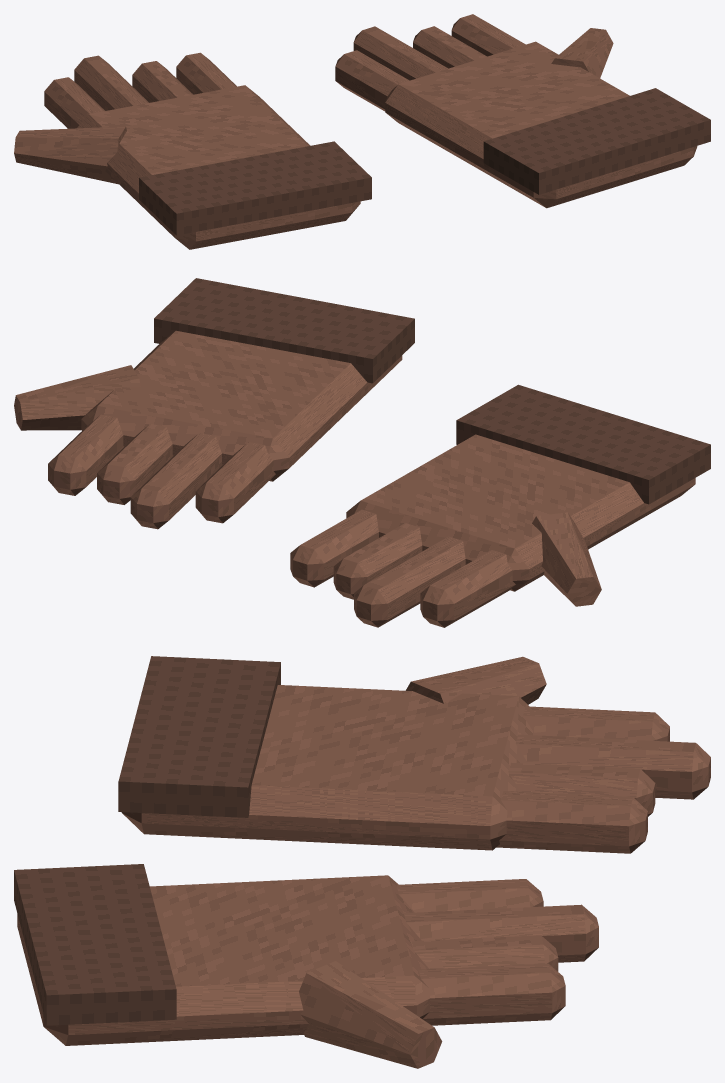
File: gloves_work.glb
The picture shows the model from 3 angles, top to bottom: view 1: azimuth 30°, elevation 25°; view 2: azimuth 150°, elevation 25°; view 3: azimuth 270°, elevation 25°; orthographic projection. The views are drawn at different scales.
Visible parts, largest first — view 1: block_palm and cuff (×2), block_rib cuff (×2), block_thumb (×2), block_finger 1 (×2), block_finger 0 (×2), block_finger 3 (×2), block_finger 2 (×2); view 2: block_palm and cuff (×2), block_rib cuff (×2), block_finger 1 (×2), block_thumb (×2), block_finger 0 (×2), block_finger 3 (×2), block_finger 2 (×2); view 3: block_palm and cuff (×2), block_rib cuff (×2), block_finger 3 (×2), block_finger 1 (×2), block_thumb (×2), block_finger 2 (×2), block_finger 0 (×2).
Part boxes in pixels (<box>): block_palm and cuff (×2): <box>77,41,697,249</box>; block_rib cuff (×2): <box>139,88,710,235</box>; block_thumb (×2): <box>14,28,613,184</box>; block_finger 1 (×2): <box>74,26,447,110</box>; block_finger 0 (×2): <box>44,50,409,128</box>; block_finger 3 (×2): <box>176,14,525,94</box>; block_finger 2 (×2): <box>132,26,486,102</box>; block_palm and cuff (×2): <box>81,330,695,591</box>; block_rib cuff (×2): <box>154,278,710,504</box>; block_finger 1 (×2): <box>130,433,465,627</box>; block_thumb (×2): <box>14,365,601,606</box>; block_finger 0 (×2): <box>195,442,515,627</box>; block_finger 3 (×2): <box>48,414,378,587</box>; block_finger 2 (×2): <box>97,423,422,599</box>; block_palm and cuff (×2): <box>17,685,535,1045</box>; block_rib cuff (×2): <box>14,656,280,1025</box>; block_finger 3 (×2): <box>418,791,647,1025</box>; block_finger 1 (×2): <box>404,734,710,962</box>; block_thumb (×2): <box>299,656,546,1068</box>; block_finger 2 (×2): <box>411,762,655,971</box>; block_finger 0 (×2): <box>396,706,669,912</box>.
Bounding box in the file's own units: 0.2433 × 0.0195 × 0.1868.
Materials: 1 (1 with a texture image).
